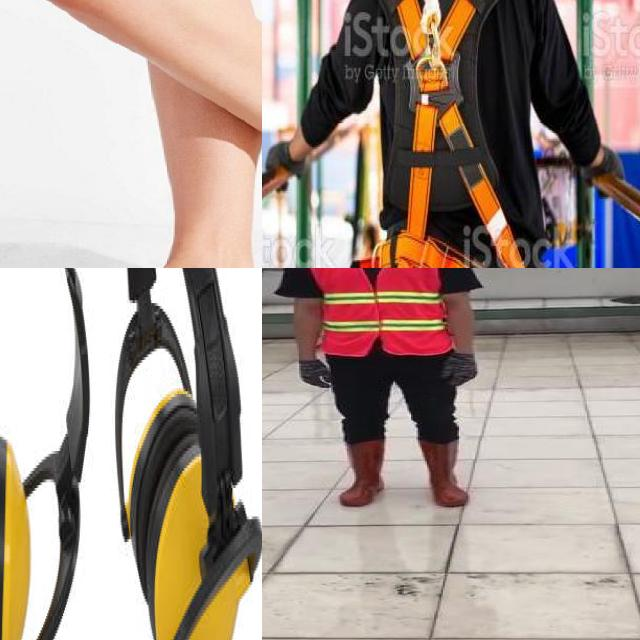Ear-protection: (111, 268, 262, 640), (0, 268, 105, 640)
Harness: (375, 0, 526, 268)
Sandals: (0, 123, 262, 268)
boots: (420, 439, 473, 505), (340, 440, 388, 506)
hand_glove: (438, 352, 478, 386), (297, 357, 329, 389)
person: (277, 268, 487, 517)
vest: (310, 268, 452, 355)
